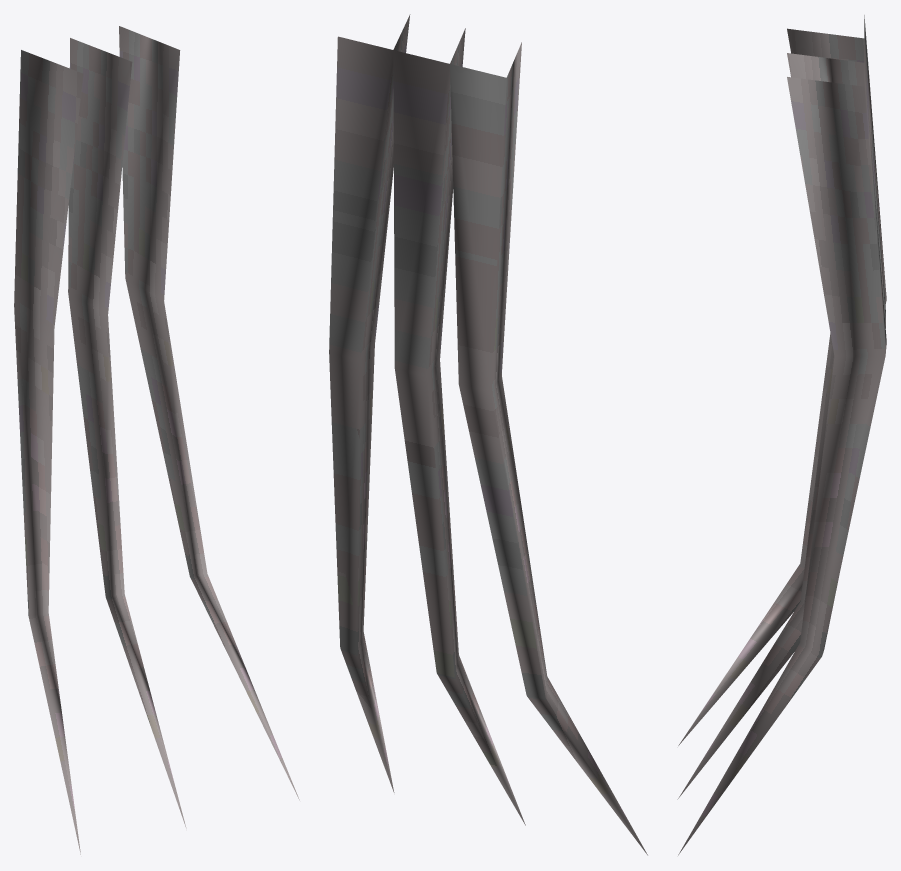
3 views of the same model, side by side, from view 1: azimuth 30°, elevation 25°; view 2: azimuth 150°, elevation 25°; view 3: azimuth 270°, elevation 25° (orthographic). The views are drawn at different scales.
Parts seen in each view (by area): view 1: it71; view 2: it71; view 3: it71.
Part boxes in pixels (<box>): it71: <box>14,26,299,854</box>; it71: <box>329,14,647,855</box>; it71: <box>677,15,886,855</box>.
Size of the model in its own units: 0.4507 by 1.44 by 0.3643.
1 material, 1 textured.
